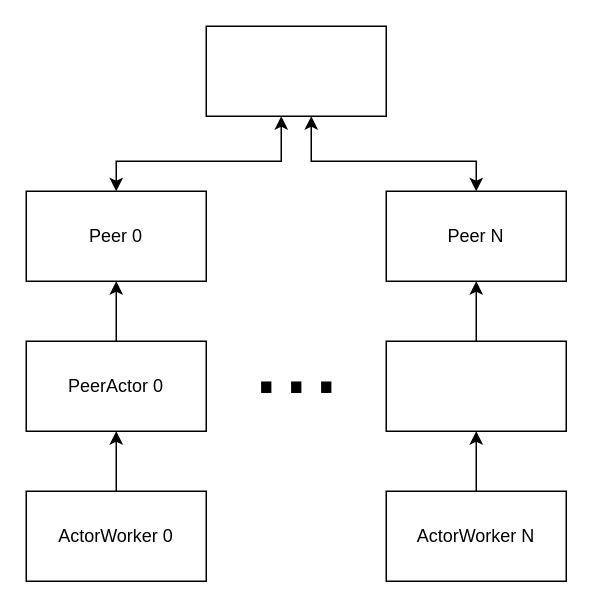
Some shapes in this 593 by 608 pixel diagram are drawn without their labels. The shapes that lost their labels are listed below. From the top down, each one's centre as x and y in pixels, then its label:
point (295, 70): Server
point (475, 385): PeerActor N
